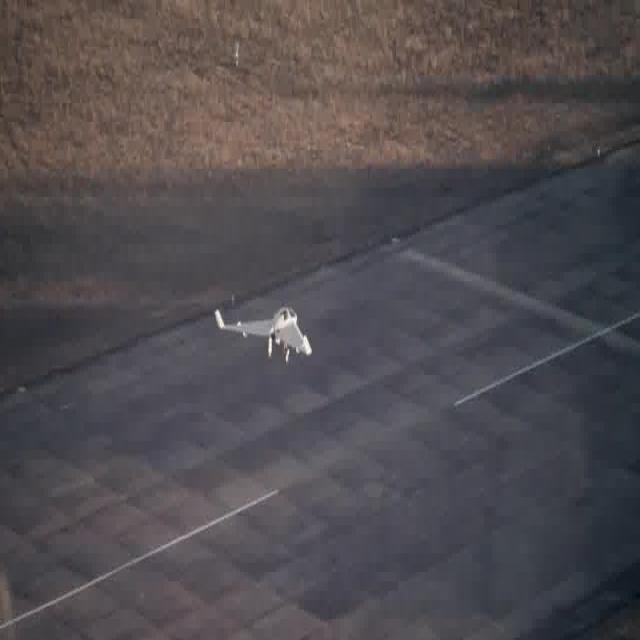iha: (242, 317, 280, 336)
